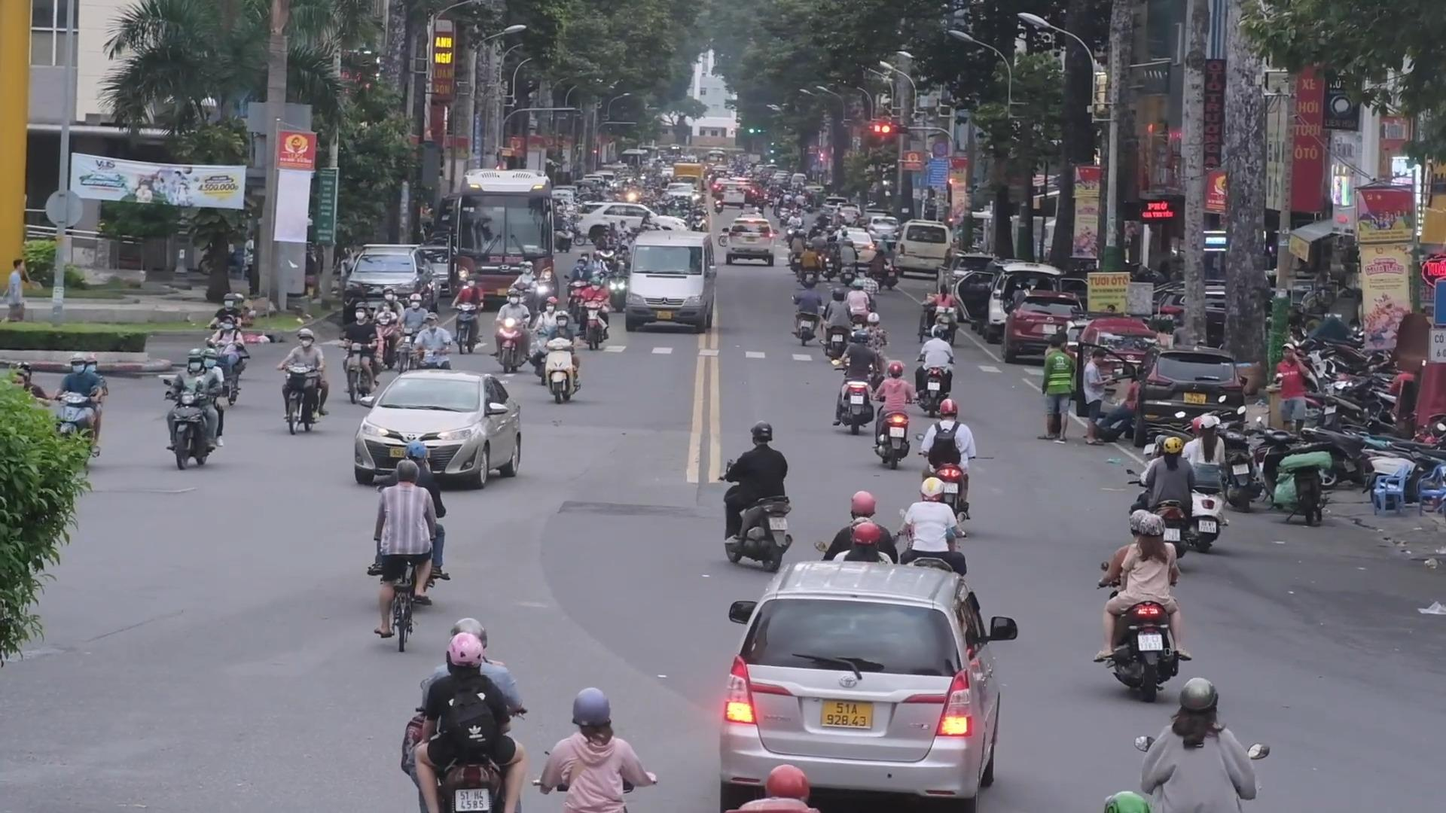bicyclist: (365, 460, 437, 652)
driver: (402, 618, 530, 813), (1093, 509, 1192, 702), (1134, 677, 1270, 813), (533, 686, 659, 813), (718, 420, 792, 574), (1126, 433, 1196, 559), (162, 348, 224, 470), (917, 399, 976, 522), (1181, 414, 1229, 554), (49, 351, 109, 460), (813, 491, 899, 565), (276, 328, 329, 436), (870, 360, 915, 470), (832, 329, 875, 436), (337, 301, 381, 405), (913, 324, 956, 418), (543, 311, 583, 404), (490, 288, 530, 374), (450, 275, 483, 354), (819, 288, 854, 361), (579, 276, 610, 351), (791, 278, 821, 346)
helmet: (765, 764, 811, 807), (571, 687, 612, 732), (1179, 677, 1219, 720), (447, 632, 482, 676), (1102, 790, 1151, 813), (1138, 514, 1165, 544), (851, 491, 876, 521), (920, 477, 945, 501), (750, 421, 772, 446), (404, 440, 429, 460), (187, 348, 204, 373), (1164, 436, 1183, 458), (70, 353, 88, 376), (940, 399, 958, 420), (888, 360, 906, 379), (203, 348, 218, 369), (299, 329, 315, 348), (555, 310, 570, 328), (409, 293, 423, 311), (930, 324, 946, 339)
no-helmet: (396, 460, 420, 486), (1199, 416, 1221, 436), (425, 312, 439, 330)
